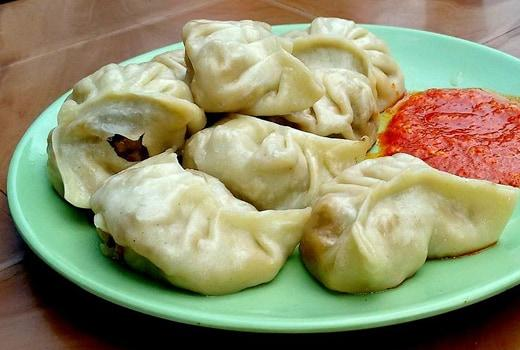momos: (89, 150, 311, 295), (301, 153, 517, 292), (49, 64, 205, 208), (183, 114, 369, 210), (182, 19, 324, 115), (309, 18, 405, 110), (285, 68, 378, 143), (292, 35, 375, 85)
